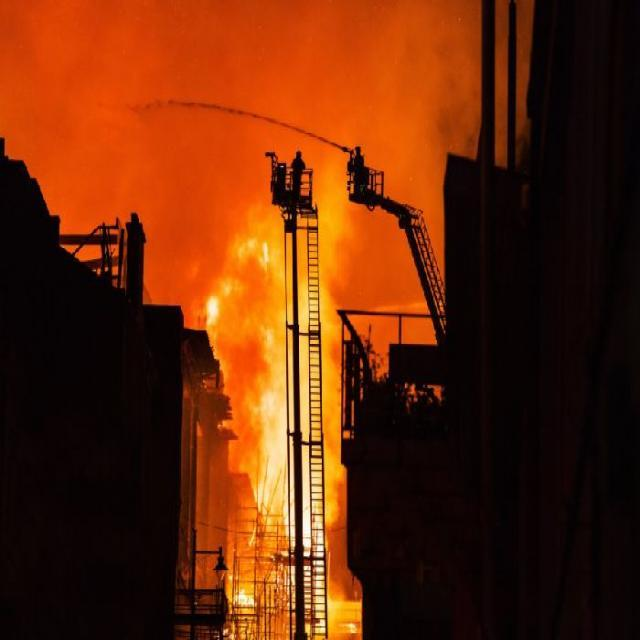Fire: (215, 208, 348, 638)
